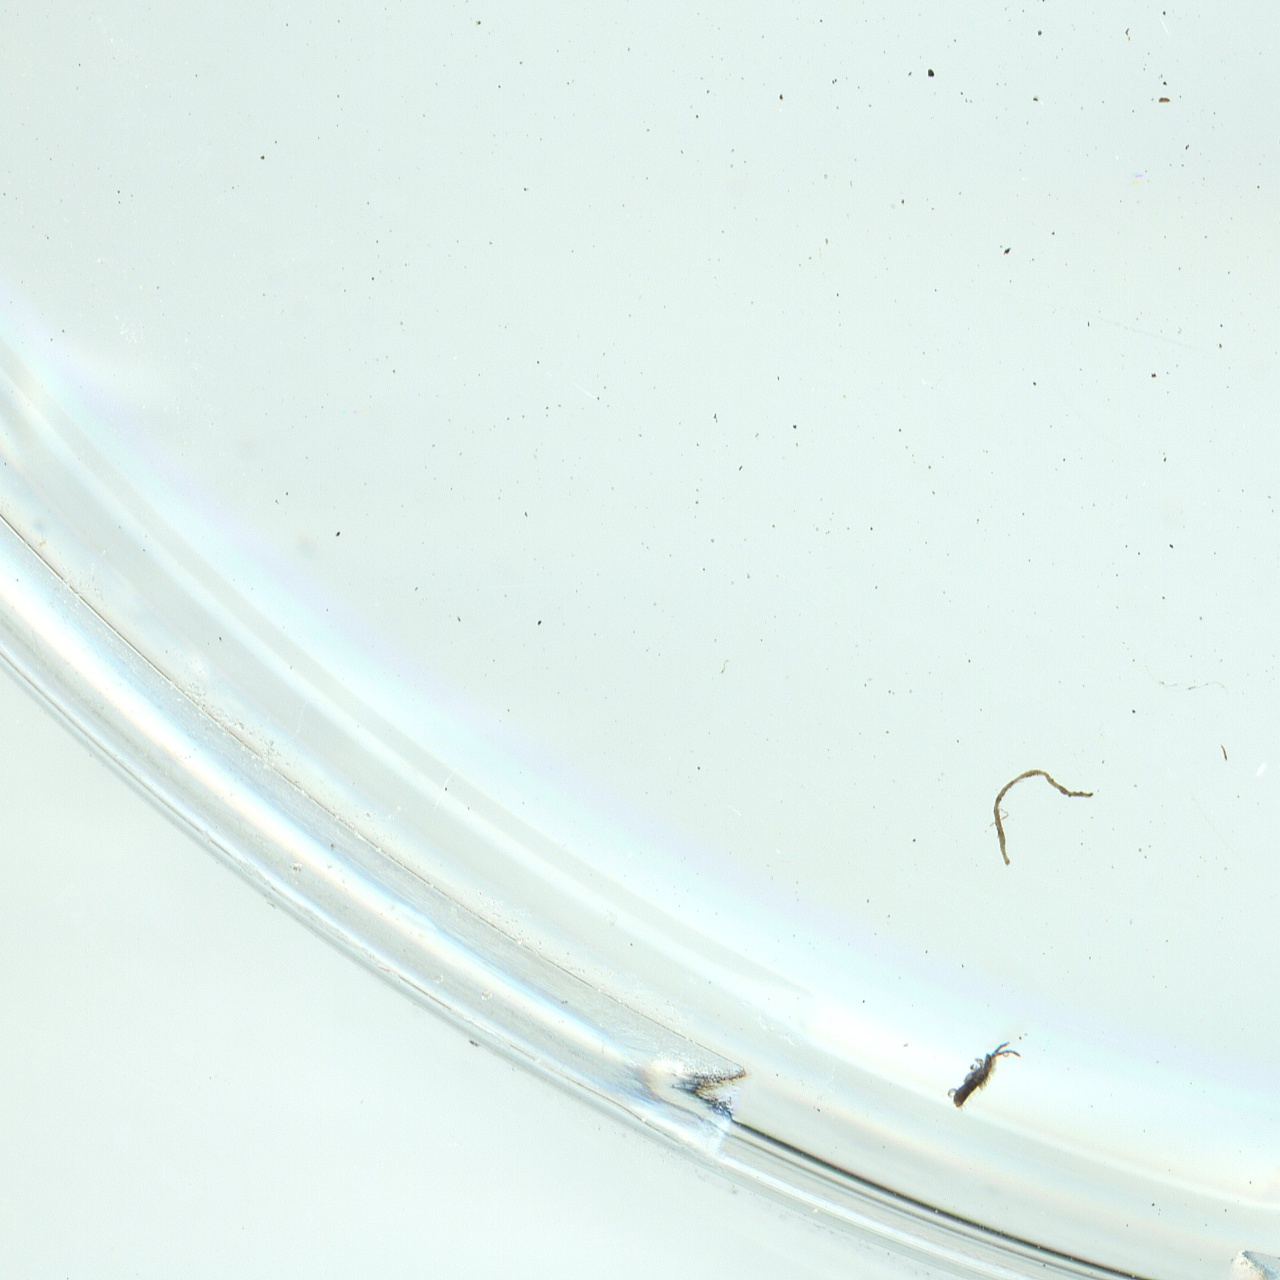arthropod: (940, 1039, 1022, 1116)
